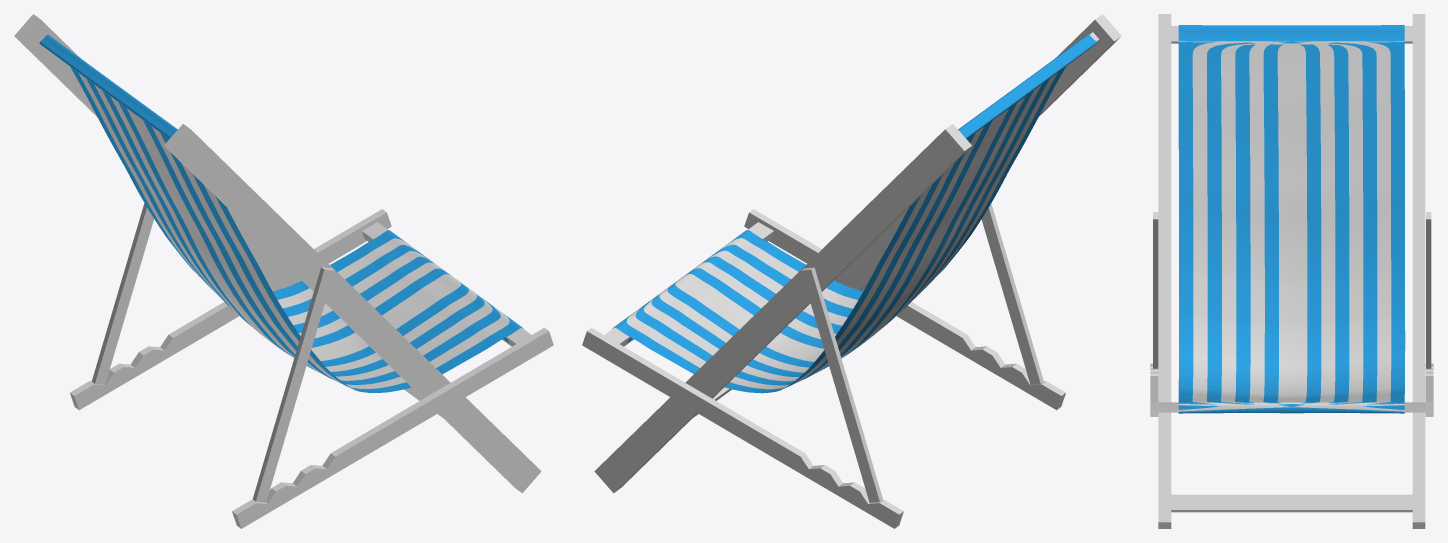
Rendered from sezlong.fbx.
The picture shows the model from 3 angles, left to right: view 1: azimuth 30°, elevation 25°; view 2: azimuth 150°, elevation 25°; view 3: azimuth 270°, elevation 25°; orthographic projection. The views are drawn at different scales.
Parts seen in each view (by area): view 1: şezlong; view 2: şezlong; view 3: şezlong.
Part boxes in pixels (x1,y1,x2,y2): şezlong: (14,14,553,528); şezlong: (582,14,1121,528); şezlong: (1150,14,1433,528).
Size of the model in its own units: 394 by 443 by 301.
